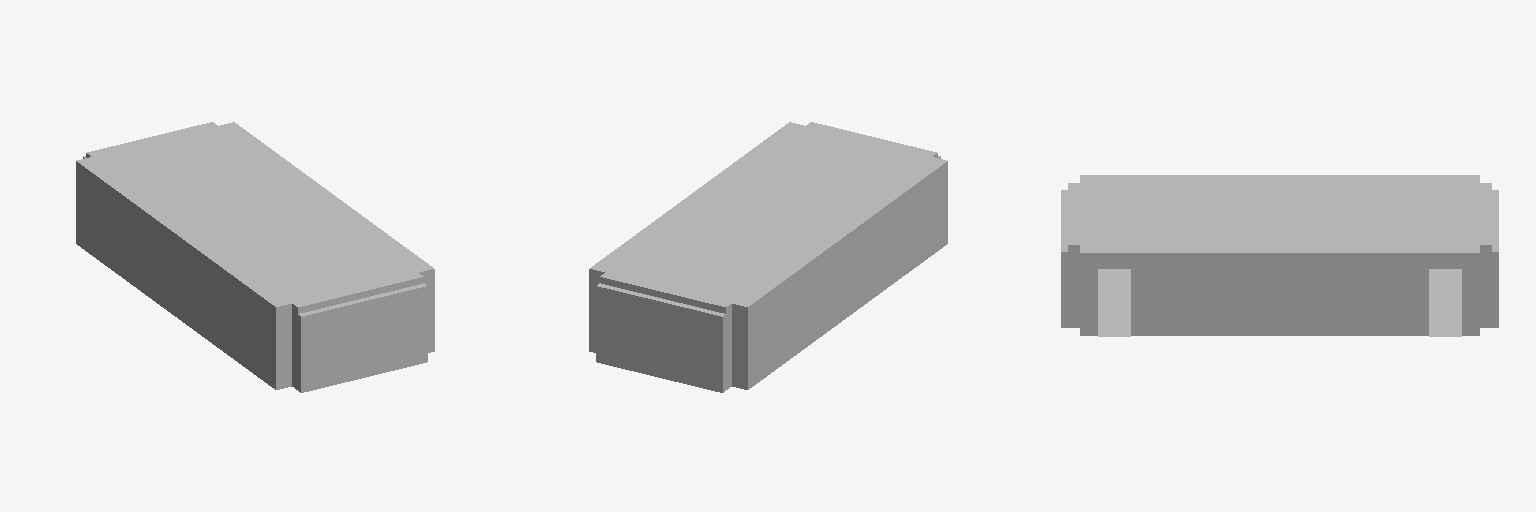
The model's file is hor1 room3.obj.
3 renders of one model, left to right at view 1: azimuth 30°, elevation 25°; view 2: azimuth 150°, elevation 25°; view 3: azimuth 270°, elevation 25°, orthographic.
Parts seen in each view (by area): view 1: library_Plane.011; view 2: library_Plane.011; view 3: library_Plane.011.
Part boxes in pixels (bbox=[...]): library_Plane.011: bbox=[76, 122, 434, 392]; library_Plane.011: bbox=[589, 122, 947, 392]; library_Plane.011: bbox=[1061, 175, 1498, 336].
Bounding box in the file's own units: 5.05 × 2.5 × 11.95.